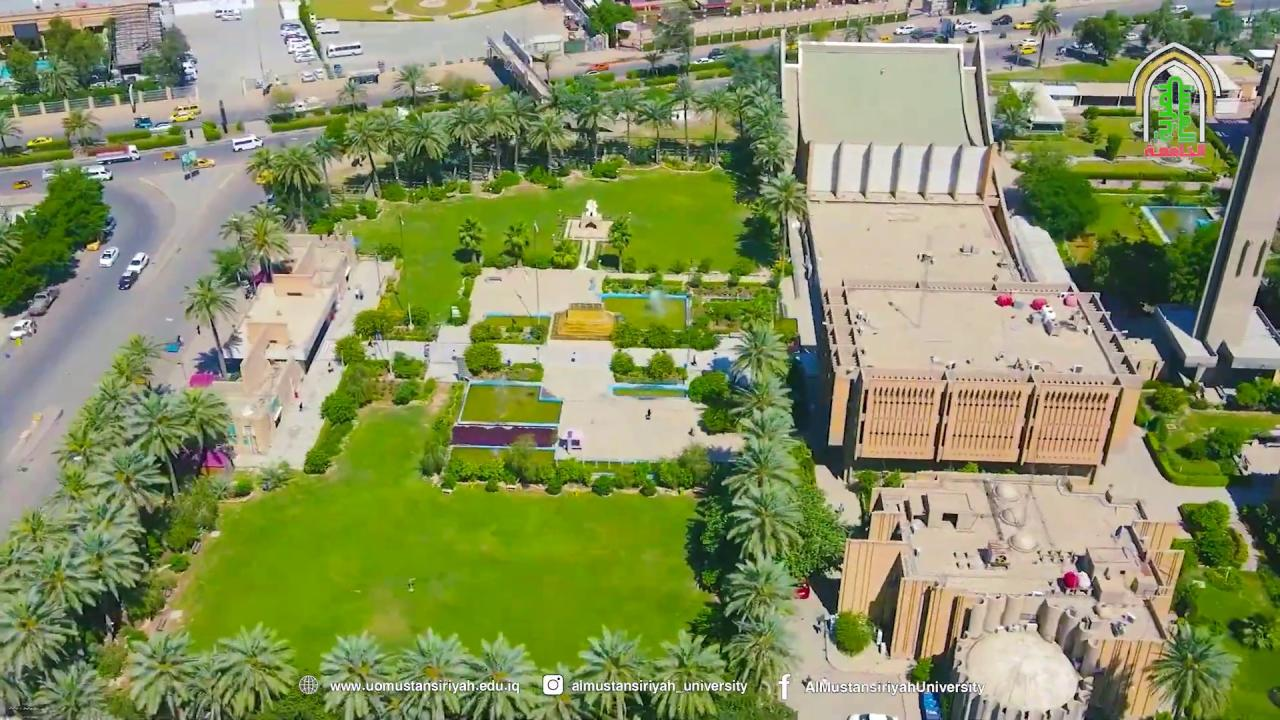car: (118, 251, 150, 290), (27, 285, 59, 315), (95, 144, 141, 164), (170, 104, 201, 123), (231, 134, 263, 152), (9, 318, 34, 339), (82, 166, 113, 182), (98, 247, 119, 268), (214, 7, 242, 21), (41, 166, 69, 180), (414, 81, 442, 94), (26, 135, 53, 148), (584, 62, 609, 75), (954, 18, 977, 32), (149, 121, 172, 135), (846, 713, 897, 719), (893, 22, 917, 34), (133, 115, 152, 129), (708, 47, 727, 60), (264, 193, 277, 210), (194, 157, 214, 168), (1014, 20, 1036, 30), (991, 15, 1011, 25), (1130, 120, 1144, 134), (1171, 4, 1188, 15), (13, 179, 31, 189), (472, 82, 490, 91), (163, 151, 180, 160), (1214, 0, 1234, 7)
fountain: (598, 287, 692, 332), (447, 445, 560, 478), (461, 384, 559, 420), (1139, 203, 1216, 245), (552, 456, 681, 474), (611, 384, 690, 397)
person: (645, 408, 651, 419)
tree: (0, 331, 234, 718), (684, 318, 848, 704), (719, 556, 797, 694), (1142, 616, 1240, 718), (201, 620, 298, 718), (1012, 147, 1100, 243), (389, 626, 472, 718), (783, 478, 847, 595), (647, 627, 727, 719), (570, 624, 647, 719), (458, 630, 539, 718), (125, 629, 202, 718), (317, 629, 393, 719), (0, 594, 78, 680), (36, 166, 110, 252), (724, 486, 803, 564), (178, 274, 236, 378), (721, 434, 802, 500), (720, 556, 794, 627), (173, 386, 231, 475), (30, 660, 112, 719), (39, 15, 105, 86), (758, 170, 808, 261), (742, 92, 794, 178), (268, 144, 321, 224), (730, 320, 790, 386), (342, 111, 387, 197), (400, 109, 450, 182), (494, 89, 538, 171), (662, 73, 702, 163), (444, 98, 487, 181), (603, 84, 648, 161), (694, 86, 735, 166), (241, 202, 290, 266), (635, 88, 677, 162), (571, 92, 616, 161), (526, 112, 576, 174), (992, 81, 1033, 151), (1071, 8, 1124, 62), (111, 332, 166, 384), (479, 93, 514, 172), (371, 109, 406, 180), (585, 0, 635, 49), (140, 33, 184, 88), (1028, 1, 1061, 67), (833, 609, 875, 657), (1229, 612, 1277, 652), (60, 106, 101, 152), (722, 82, 756, 137), (37, 56, 80, 98), (504, 438, 540, 486), (244, 145, 275, 197), (391, 62, 426, 108), (307, 133, 338, 184), (607, 211, 632, 272), (1144, 0, 1177, 44), (700, 497, 726, 552), (319, 390, 358, 426), (462, 342, 502, 377), (500, 220, 530, 266), (217, 210, 252, 249), (352, 309, 393, 342), (336, 76, 368, 116), (458, 216, 486, 260), (678, 445, 708, 486), (333, 333, 366, 367), (654, 460, 690, 490), (420, 438, 446, 477), (0, 108, 20, 155), (645, 350, 675, 381), (608, 349, 635, 381), (553, 459, 586, 485), (446, 459, 478, 481), (480, 457, 503, 483), (697, 568, 722, 588), (590, 474, 614, 494), (636, 478, 658, 498), (546, 481, 563, 495), (482, 480, 499, 492), (442, 476, 455, 488)
